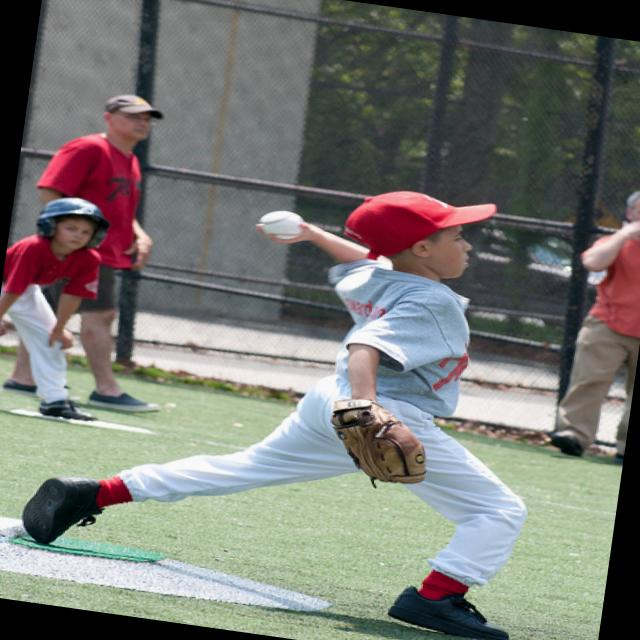Vehicle: (436, 216, 580, 334)
